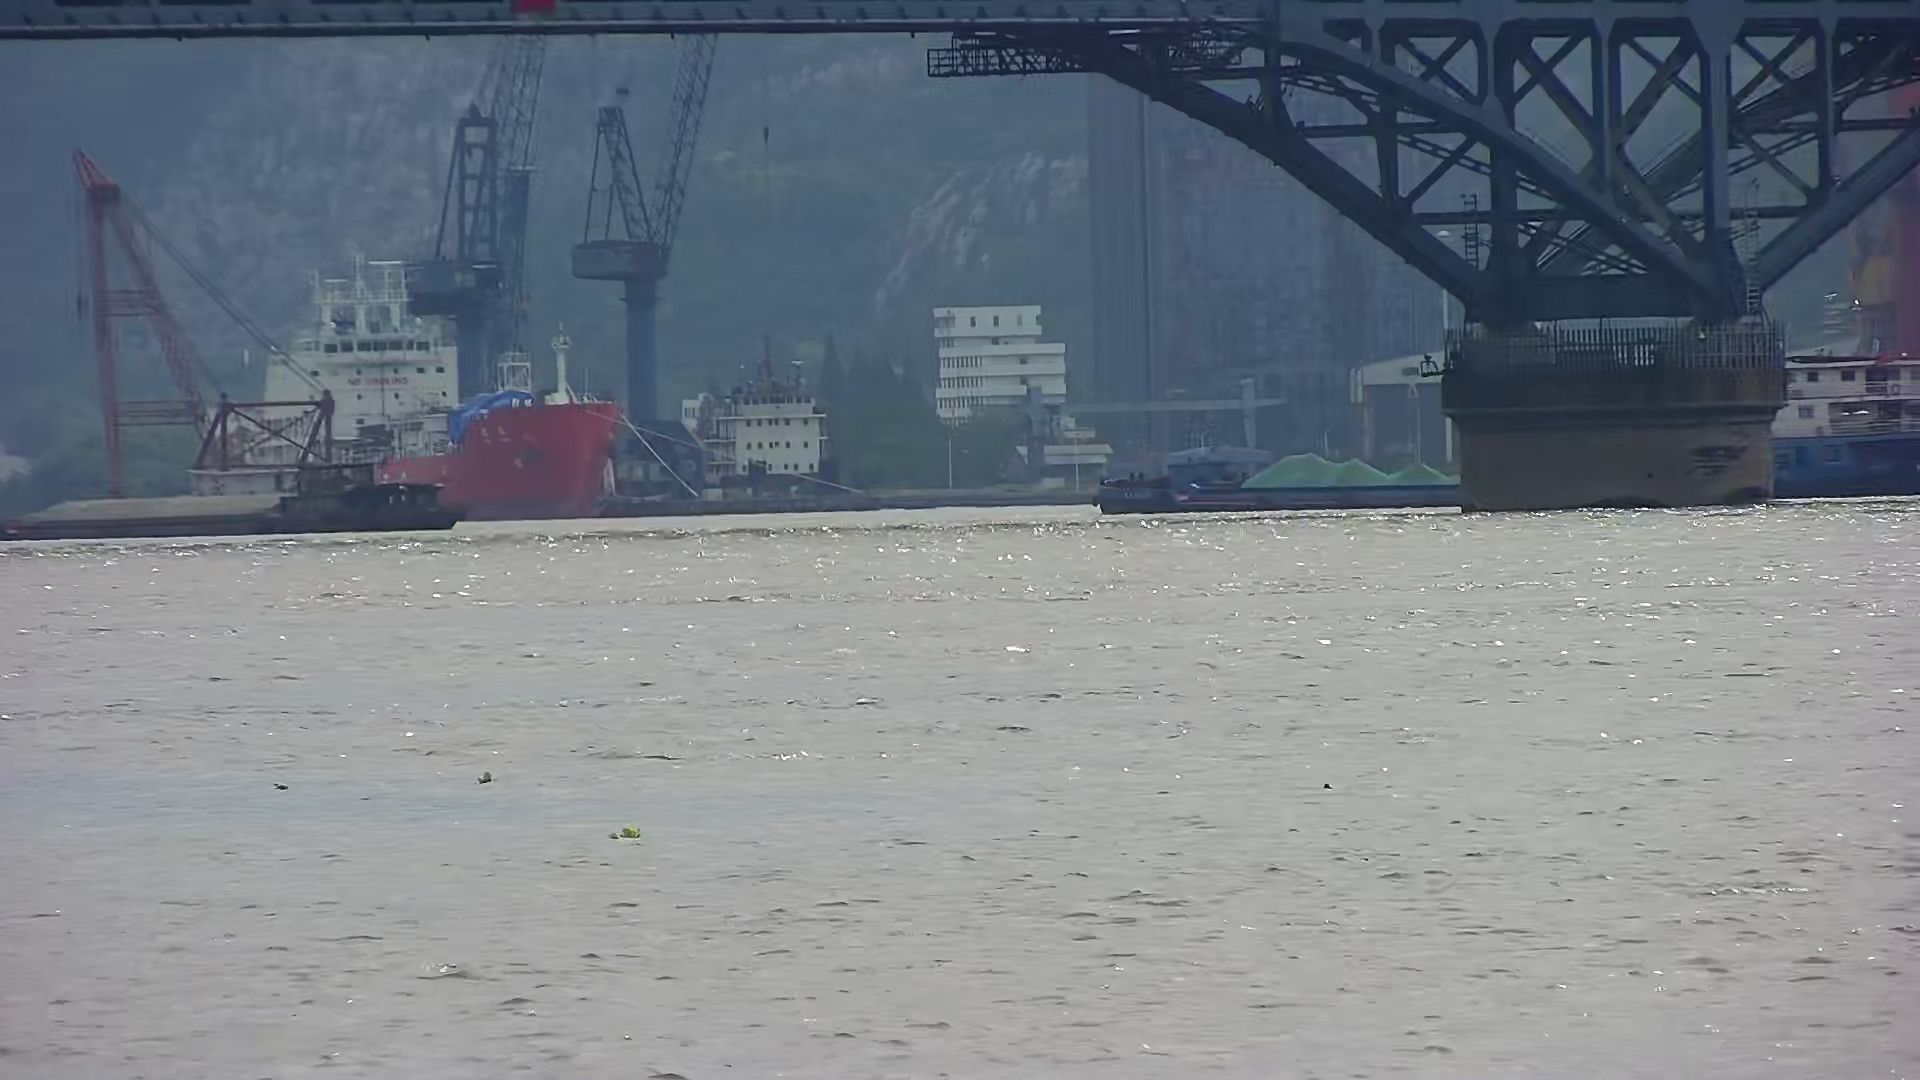bridge: (1, 1, 1920, 510)
harbor: (73, 33, 884, 521)
ship: (1097, 360, 1919, 512), (1, 463, 460, 541)
